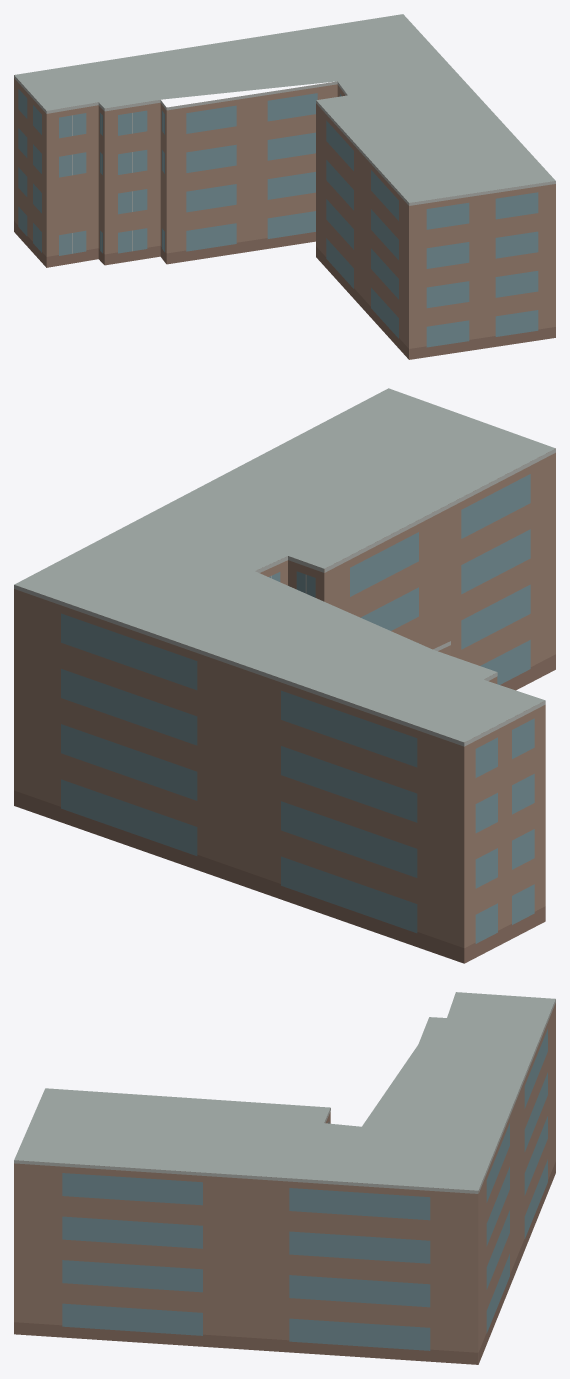
File: survey-upis-32477979.glb
3 renders of one model, top to bottom at view 1: azimuth 30°, elevation 25°; view 2: azimuth 150°, elevation 25°; view 3: azimuth 270°, elevation 25°, orthographic. The views are drawn at different scales.
Visible parts, largest first — view 1: survey-upis-32477979.tmp; view 2: survey-upis-32477979.tmp; view 3: survey-upis-32477979.tmp.
Boxes of the visible parts, x1,y1,x2,y2 form: survey-upis-32477979.tmp: [14, 14, 555, 359]; survey-upis-32477979.tmp: [14, 388, 555, 963]; survey-upis-32477979.tmp: [14, 992, 555, 1364].
Bounding box in the file's own units: 31.57 × 12.9 × 36.38.
